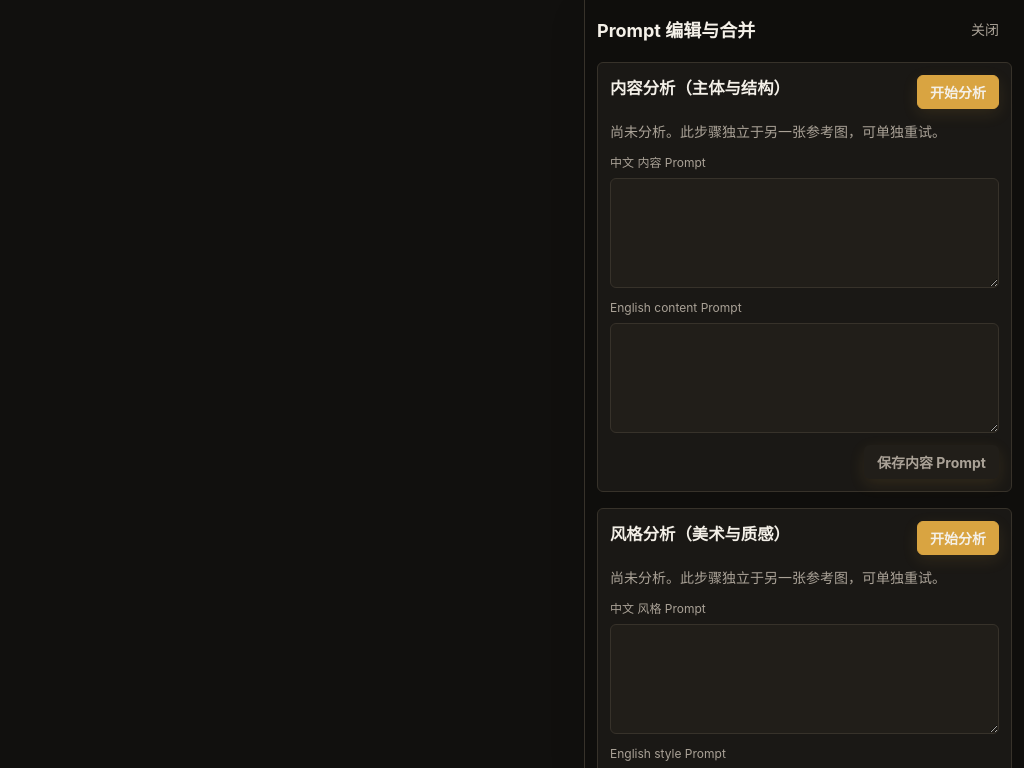
Test: PromptParameterDrawer › approves each analysis and keeps the user in the reference workspace while its job runs
Step 1. Click the button "开始分析" next to "内容分析（主体与结构）" → (958, 92), box [917,75,999,109]
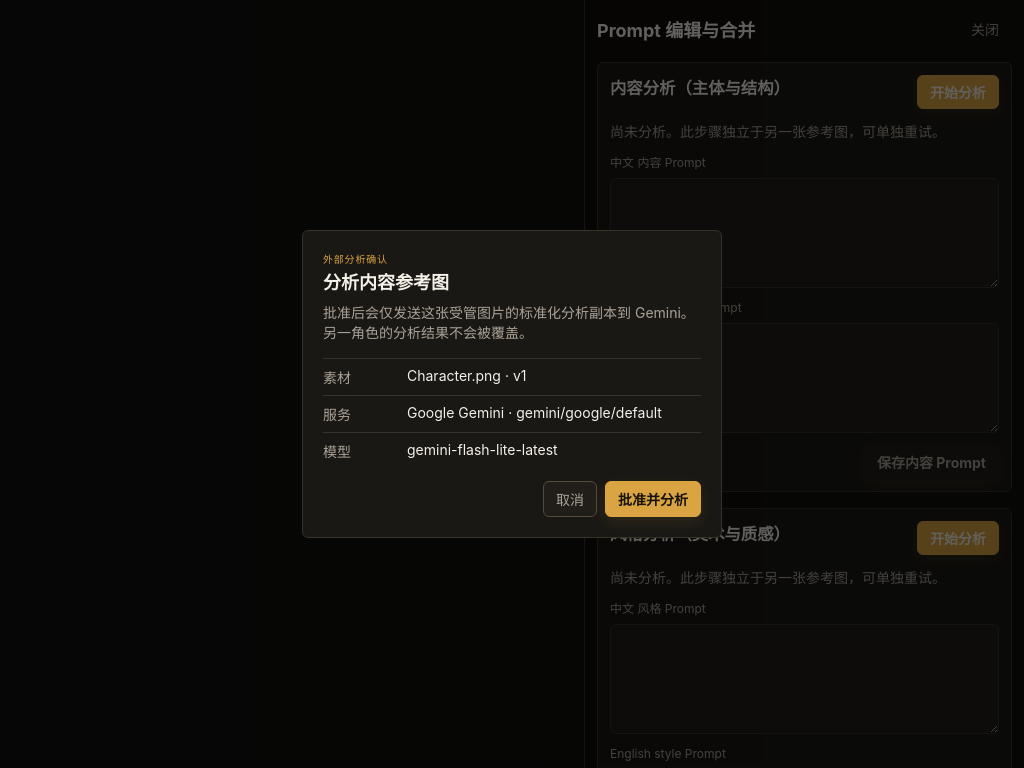
Now the dialog shows "分析内容参考图", box [302,230,722,538]
Step 2. Click the button "批准并分析" → (653, 499), box [605,481,701,517]
(page scrolled)
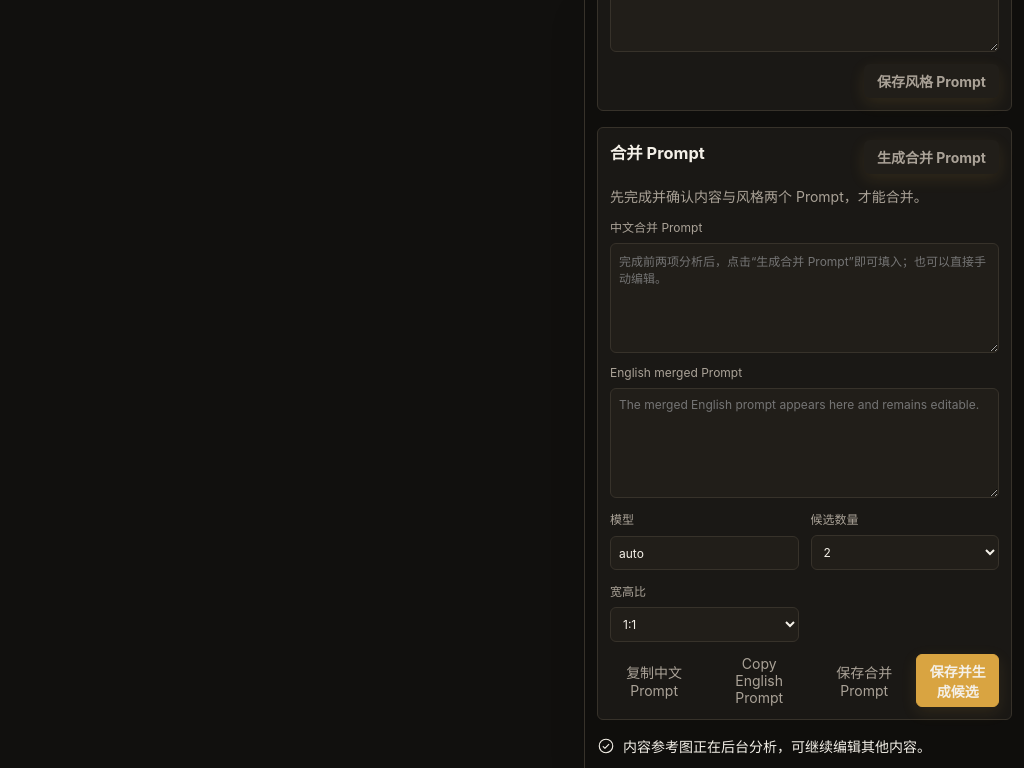
Now the text "内容参考图正在后台分析，可继续编辑其他内容。" is shown, box [597,737,931,755]
